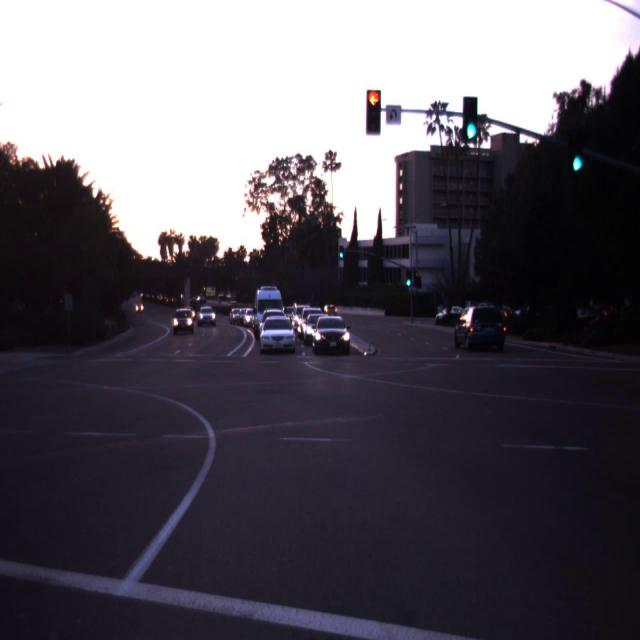go: (468, 125, 476, 136), (574, 158, 582, 169), (406, 279, 411, 286), (340, 252, 342, 257)
go traffic light: (459, 82, 485, 142), (567, 118, 589, 175), (401, 253, 416, 289), (336, 233, 346, 260)
stop left: (368, 91, 378, 104)
stop left traffic light: (358, 85, 388, 141)
